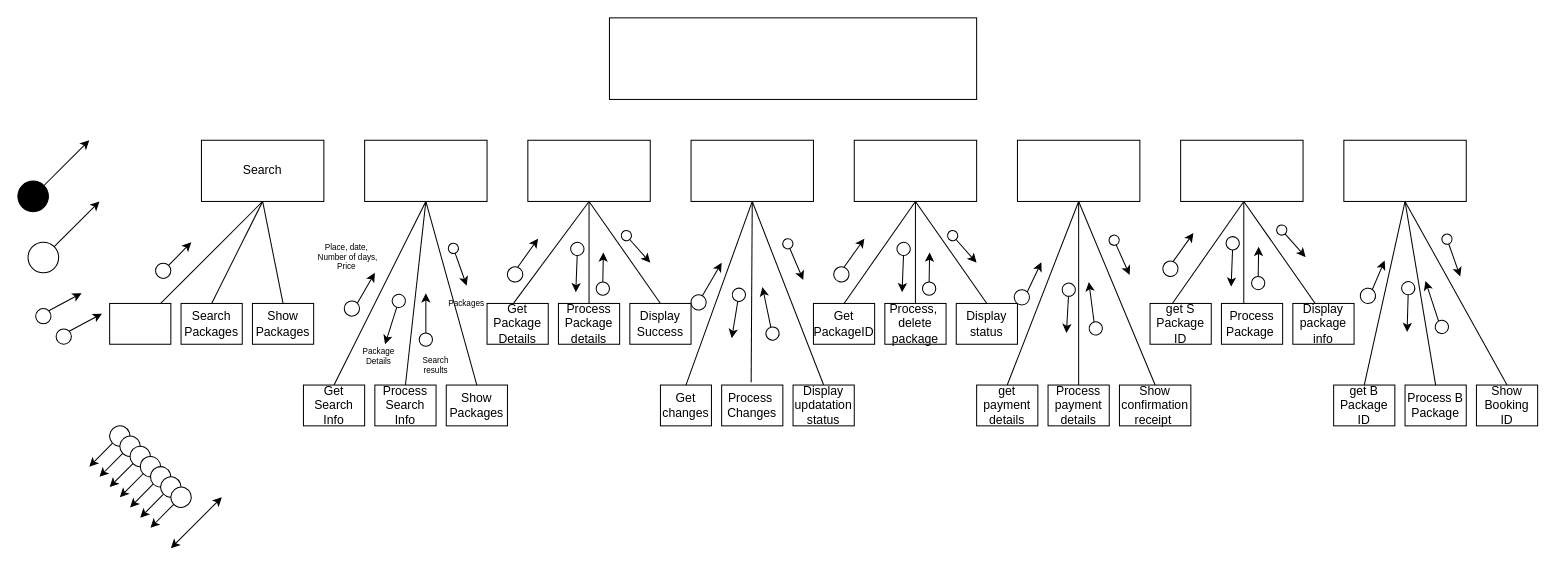
Image size: 1556x575. Some labels were removed from this diagram. The shapes that lost their labels are listed below. From the top down, each one's centre as x and y in pixels, then its label:
(792,58): TRAVEL MANAGEMENT SYSTEM
(425,170): Customized Search
(588,170): Add Package
(751,170): Update Package
(915,170): Delete Package
(1078,170): Make payment
(1241,170): Select Package
(1404,170): Book Package
(140,323): Get Place
